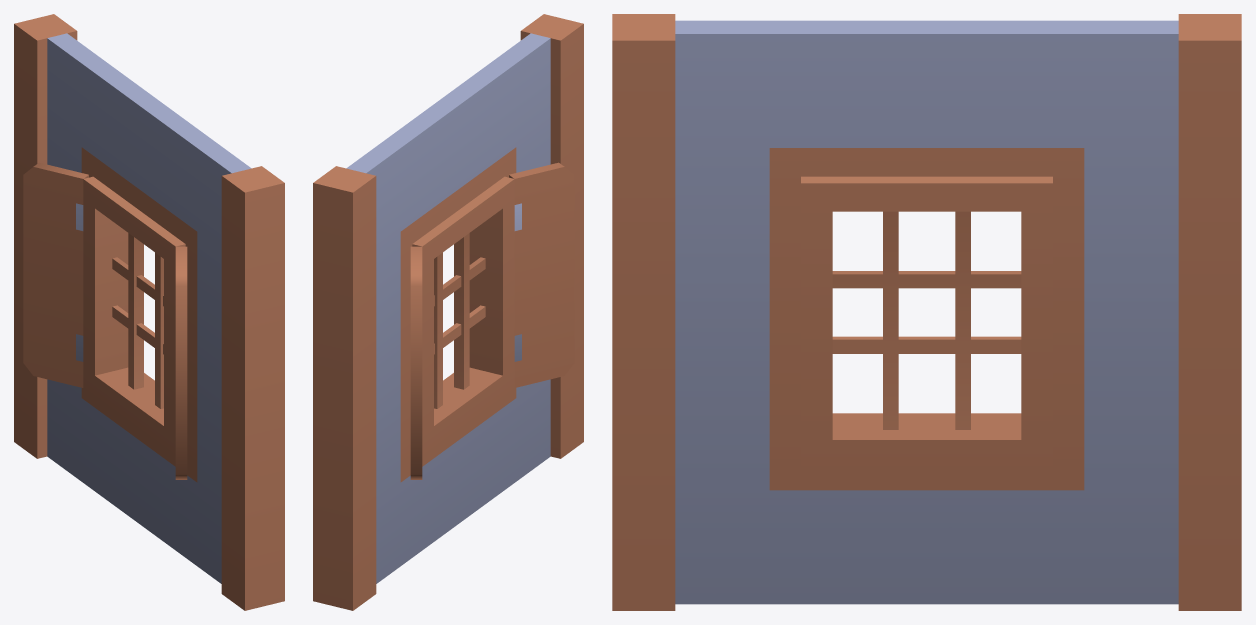
The model's file is wall-window-shutters.obj.
The picture shows the model from 3 angles, left to right: view 1: azimuth 30°, elevation 25°; view 2: azimuth 150°, elevation 25°; view 3: azimuth 270°, elevation 25°; orthographic projection. The views are drawn at different scales.
Parts seen in each view (by area): view 1: wall-window-shutters; view 2: wall-window-shutters; view 3: wall-window-shutters.
Boxes of the visible parts, bbox=[...] form: wall-window-shutters: bbox=[14, 14, 284, 610]; wall-window-shutters: bbox=[313, 14, 583, 610]; wall-window-shutters: bbox=[612, 14, 1241, 610].
Bounding box in the file's own units: 0.175 × 1 × 1.
Materials: 1 (1 with a texture image).
